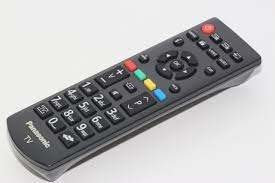remote control: (0, 2, 275, 183)
